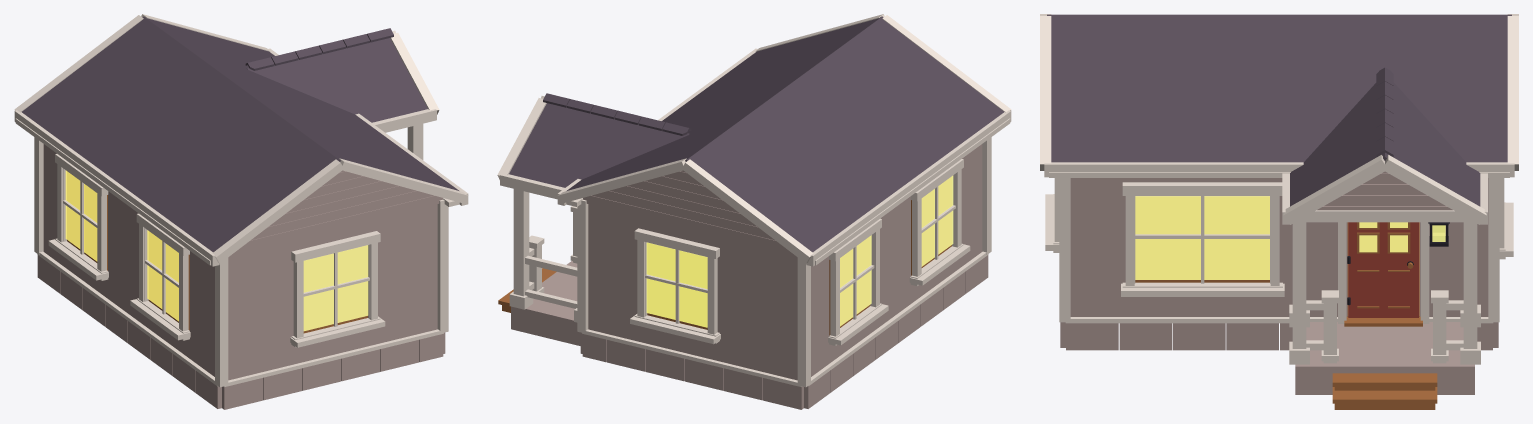
3 renders of one model, left to right at view 1: azimuth 30°, elevation 25°; view 2: azimuth 150°, elevation 25°; view 3: azimuth 270°, elevation 25°, orthographic. The views are drawn at different scales.
Visible parts, largest first — view 1: roof_pal_asphalt, body_pal_sidewalk, roof_pal_picketWhite, body_pal_picketWhite, window_left_pal_picketWhite, window_left_emi_windowGlow, window_left_pal_woodWarm, window_rearL_pal_picketWhite, window_rearR_pal_picketWhite, window_rearL_emi_windowGlow, window_rearR_emi_windowGlow, window_rearR_pal_woodWarm (+1 smaller); view 2: roof_pal_asphalt, body_pal_sidewalk, body_pal_picketWhite, roof_pal_picketWhite, window_right_pal_picketWhite, window_right_emi_windowGlow, window_right_pal_woodWarm, window_rearR_pal_picketWhite, window_rearL_pal_picketWhite, window_rearR_emi_windowGlow, window_rearL_emi_windowGlow, window_rearL_pal_woodWarm (+1 smaller); view 3: roof_pal_asphalt, body_pal_sidewalk, body_pal_picketWhite, roof_pal_picketWhite, window_front_pal_woodWarm, window_front_emi_windowGlow, window_front_pal_picketWhite, door_front_pal_brick, body_pal_woodWarm, roof_pal_sidewalk, door_front_pal_woodWarm, window_right_pal_picketWhite (+3 smaller).
Boxes of the visible parts, <box> form: roof_pal_asphalt: <box>22,16,458,252</box>; body_pal_sidewalk: <box>37,144,445,409</box>; roof_pal_picketWhite: <box>14,14,468,266</box>; body_pal_picketWhite: <box>34,123,448,387</box>; window_left_pal_picketWhite: <box>290,231,385,347</box>; window_left_emi_windowGlow: <box>303,245,368,331</box>; window_left_pal_woodWarm: <box>303,246,367,333</box>; window_rearL_pal_picketWhite: <box>48,154,108,280</box>; window_rearR_pal_picketWhite: <box>130,213,190,340</box>; window_rearL_emi_windowGlow: <box>65,170,97,261</box>; window_rearR_emi_windowGlow: <box>147,230,178,321</box>; window_rearR_pal_woodWarm: <box>148,232,189,330</box>; roof_pal_asphalt: <box>509,16,1003,252</box>; body_pal_sidewalk: <box>511,144,988,409</box>; body_pal_picketWhite: <box>509,137,991,387</box>; roof_pal_picketWhite: <box>497,14,1011,266</box>; window_right_pal_picketWhite: <box>630,228,720,344</box>; window_right_emi_windowGlow: <box>646,242,707,327</box>; window_right_pal_woodWarm: <box>647,243,707,329</box>; window_rearR_pal_picketWhite: <box>909,159,970,286</box>; window_rearL_pal_picketWhite: <box>828,218,888,345</box>; window_rearR_emi_windowGlow: <box>921,175,953,266</box>; window_rearL_emi_windowGlow: <box>840,235,871,326</box>; window_rearL_pal_woodWarm: <box>829,237,870,335</box>; roof_pal_asphalt: <box>1047,14,1511,206</box>; body_pal_sidewalk: <box>1060,178,1498,394</box>; body_pal_picketWhite: <box>1059,178,1499,364</box>; roof_pal_picketWhite: <box>1040,14,1518,224</box>; window_front_pal_woodWarm: <box>1135,196,1269,282</box>; window_front_emi_windowGlow: <box>1135,196,1269,279</box>; window_front_pal_picketWhite: <box>1121,182,1284,296</box>; door_front_pal_brick: <box>1348,222,1418,317</box>; body_pal_woodWarm: <box>1332,316,1437,409</box>; roof_pal_sidewalk: <box>1317,171,1452,210</box>; door_front_pal_woodWarm: <box>1357,222,1413,308</box>; window_right_pal_picketWhite: <box>1499,178,1513,259</box>.
Size of the model in its own units: 7.14 by 4.45 by 7.17.
